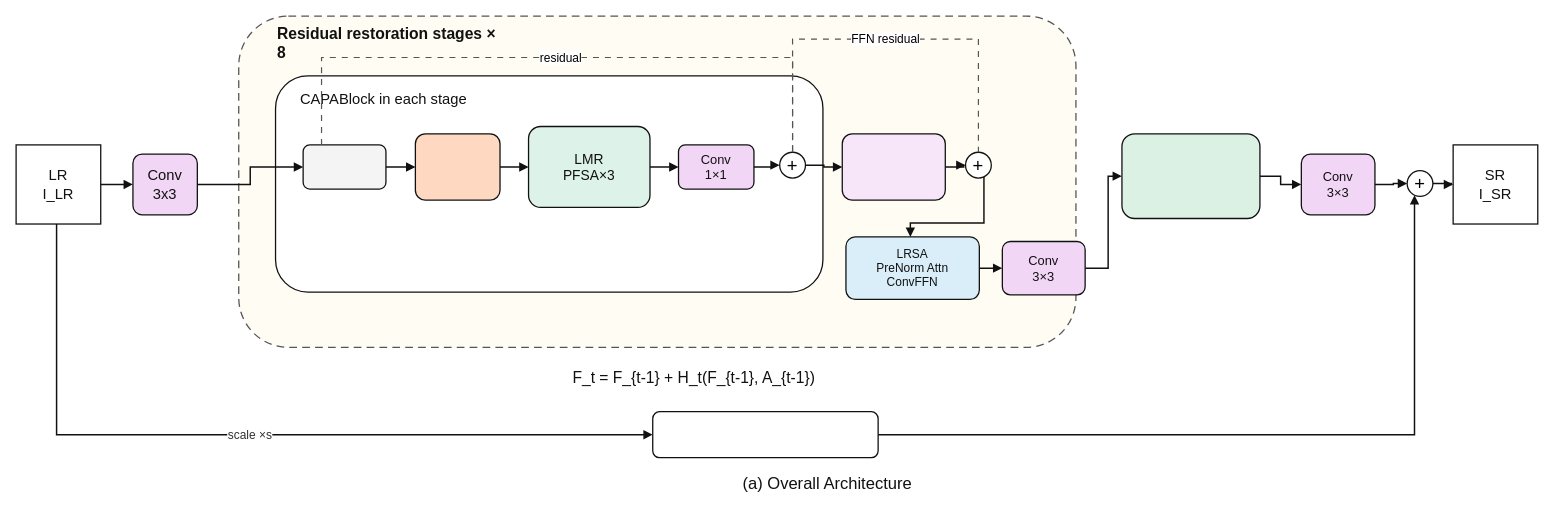
This 1555x512 diagram has some shape labels left out. The centre of each missing label's shape, as x and y in pixels:
"Bilinear skip branch" goes at point 765,434.
"DPR route" goes at point 457,166.
"Layer Norm" goes at point 344,166.
"PreNorm ConvFFN" goes at point 893,166.
"Upsample head Conv 3×3 PixelShuffle ×1/×2" goes at point 1190,176.
